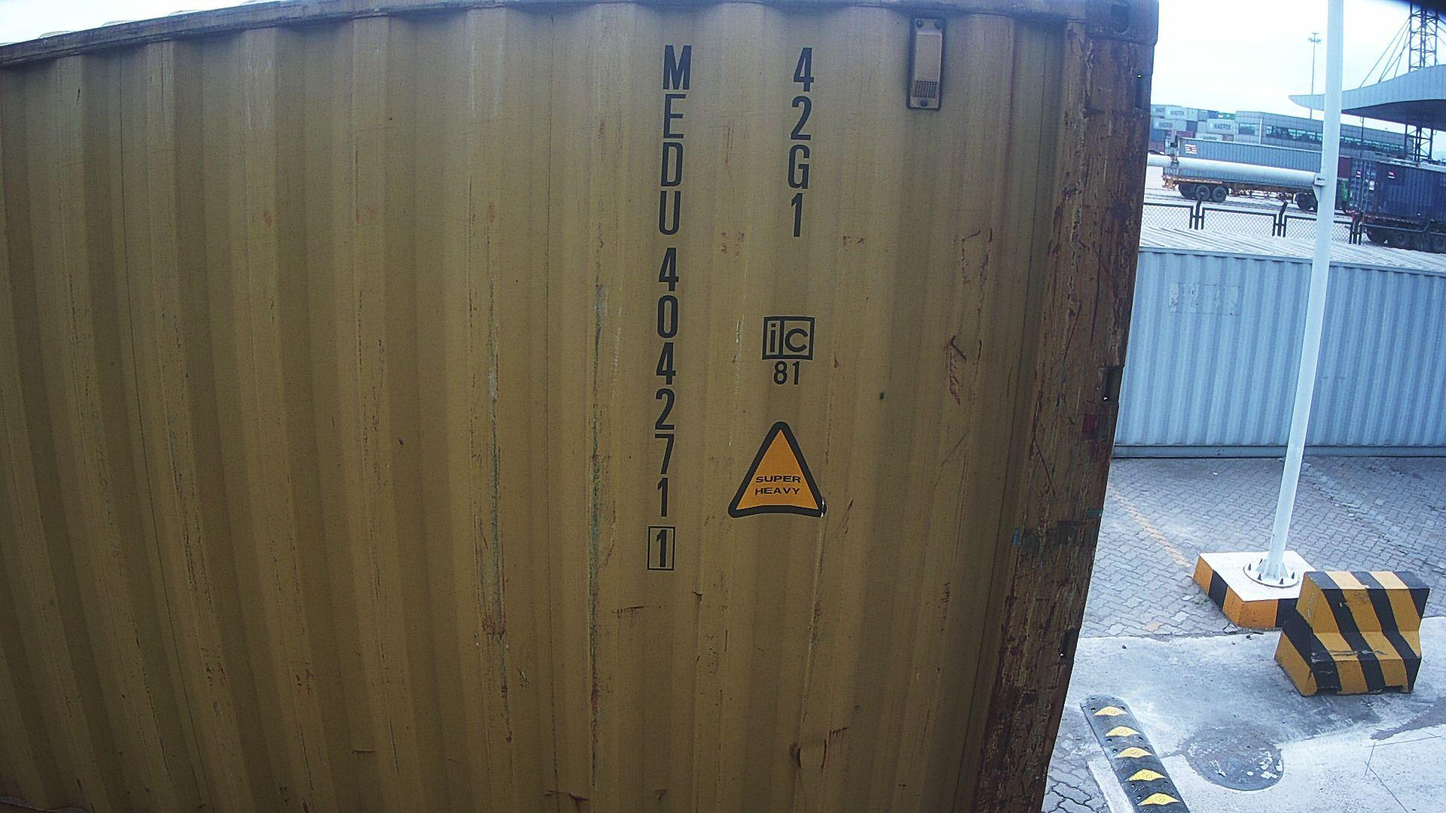container-numbers: (643, 39, 694, 576), (779, 41, 825, 245)
